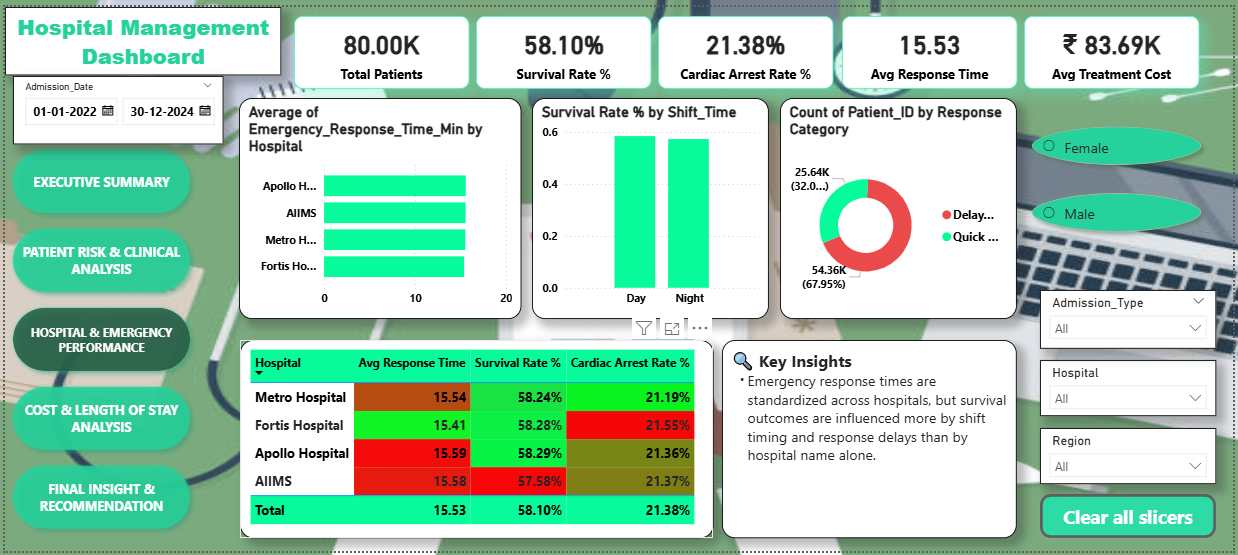

Layout of this report page (visuals, bound fields, positions):
{"tool":"powerbi","page":{"name":"HOSPITAL & EMERGENCY PERFORMANCE","canvas":[1400,620],"ordinal":3},"visuals":[{"type":"pageNavigator","box":[0,153.9,220,451.5],"z":0},{"type":"textbox","box":[0,0,315,78.4],"z":1000},{"type":"card","fields":{"Values":["cardiac_arrest_prediction_data.Total Patients"]},"box":[329.5,10.3,199.5,83.2],"z":2000},{"type":"card","fields":{"Values":["cardiac_arrest_prediction_data.Survival Rate %"]},"box":[537,10.3,199.5,83.2],"z":3000},{"type":"card","fields":{"Values":["cardiac_arrest_prediction_data.Cardiac Arrest Rate %"]},"box":[744.5,10.3,199.5,83.2],"z":4000},{"type":"card","fields":{"Values":["cardiac_arrest_prediction_data.Avg Response Time"]},"box":[954.2,10.3,199.5,83.2],"z":5000},{"type":"card","fields":{"Values":["cardiac_arrest_prediction_data.Avg Treatment Cost"]},"box":[1161.7,10.3,199.5,83.2],"z":6000},{"type":"slicer","fields":{"Values":["cardiac_arrest_prediction_data.Hospital"]},"box":[1180.2,402.4,200.6,64.3],"z":7000},{"type":"slicer","fields":{"Values":["cardiac_arrest_prediction_data.Admission_Type"]},"box":[1180.2,322.7,200.6,66.9],"z":8000},{"type":"slicer","fields":{"Values":["cardiac_arrest_prediction_data.Admission_Date"]},"box":[9,78.4,240.4,78.4],"z":9000},{"type":"advancedSlicerVisual","fields":{"Values":["cardiac_arrest_prediction_data.Gender"]},"box":[1153.6,99.5,227.1,194.5],"z":10000},{"type":"slicer","fields":{"Values":["cardiac_arrest_prediction_data.Region"]},"box":[1180.2,479.5,200.6,64.3],"z":11000},{"type":"actionButton","box":[1180.2,555.4,200.6,50.1],"z":12000},{"type":"barChart","fields":{"Y":["Avg(cardiac_arrest_prediction_data.Emergency_Response_Time_Min)"],"Category":["cardiac_arrest_prediction_data.Hospital"]},"box":[267.2,103.9,322.2,252.4],"z":13000},{"type":"columnChart","fields":{"Category":["cardiac_arrest_prediction_data.Shift_Time"],"Y":["cardiac_arrest_prediction_data.Survival Rate %"]},"box":[601.3,103.9,270.2,252.4],"z":14000},{"type":"donutChart","fields":{"Category":["cardiac_arrest_prediction_data.Response Category"],"Y":["CountNonNull(cardiac_arrest_prediction_data.Patient_ID)"]},"box":[883.4,103.9,270.2,252.4],"z":15000},{"type":"tableEx","fields":{"Values":["cardiac_arrest_prediction_data.Hospital","cardiac_arrest_prediction_data.Avg Response Time","cardiac_arrest_prediction_data.Survival Rate %","cardiac_arrest_prediction_data.Cardiac Arrest Rate %"]},"box":[267.4,379.2,539.9,226.3],"z":16000},{"type":"textbox","box":[817.6,379.2,335.5,226.3],"z":17000}]}

Visuals, with their boxes in screenshot pixels (x1, y1, x2, y2), scaled from the page's 1400x620 canvas onto the 1238x555 screenshot:
pageNavigator: region(0, 138, 195, 542)
textbox: region(0, 0, 279, 70)
card - cardiac_arrest_prediction_data.Total Patients: region(291, 9, 468, 84)
card - cardiac_arrest_prediction_data.Survival Rate %: region(475, 9, 651, 84)
card - cardiac_arrest_prediction_data.Cardiac Arrest Rate %: region(658, 9, 835, 84)
card - cardiac_arrest_prediction_data.Avg Response Time: region(844, 9, 1020, 84)
card - cardiac_arrest_prediction_data.Avg Treatment Cost: region(1027, 9, 1204, 84)
slicer - cardiac_arrest_prediction_data.Hospital: region(1044, 360, 1221, 418)
slicer - cardiac_arrest_prediction_data.Admission_Type: region(1044, 289, 1221, 349)
slicer - cardiac_arrest_prediction_data.Admission_Date: region(8, 70, 221, 140)
advancedSlicerVisual - cardiac_arrest_prediction_data.Gender: region(1020, 89, 1221, 263)
slicer - cardiac_arrest_prediction_data.Region: region(1044, 429, 1221, 487)
actionButton: region(1044, 497, 1221, 542)
barChart - Avg(cardiac_arrest_prediction_data.Emergency_Response_Time_Min) x cardiac_arrest_prediction_data.Hospital: region(236, 93, 521, 319)
columnChart - cardiac_arrest_prediction_data.Shift_Time x cardiac_arrest_prediction_data.Survival Rate %: region(532, 93, 771, 319)
donutChart - cardiac_arrest_prediction_data.Response Category x CountNonNull(cardiac_arrest_prediction_data.Patient_ID): region(781, 93, 1020, 319)
tableEx - cardiac_arrest_prediction_data.Hospital x cardiac_arrest_prediction_data.Avg Response Time: region(236, 339, 714, 542)
textbox: region(723, 339, 1020, 542)
